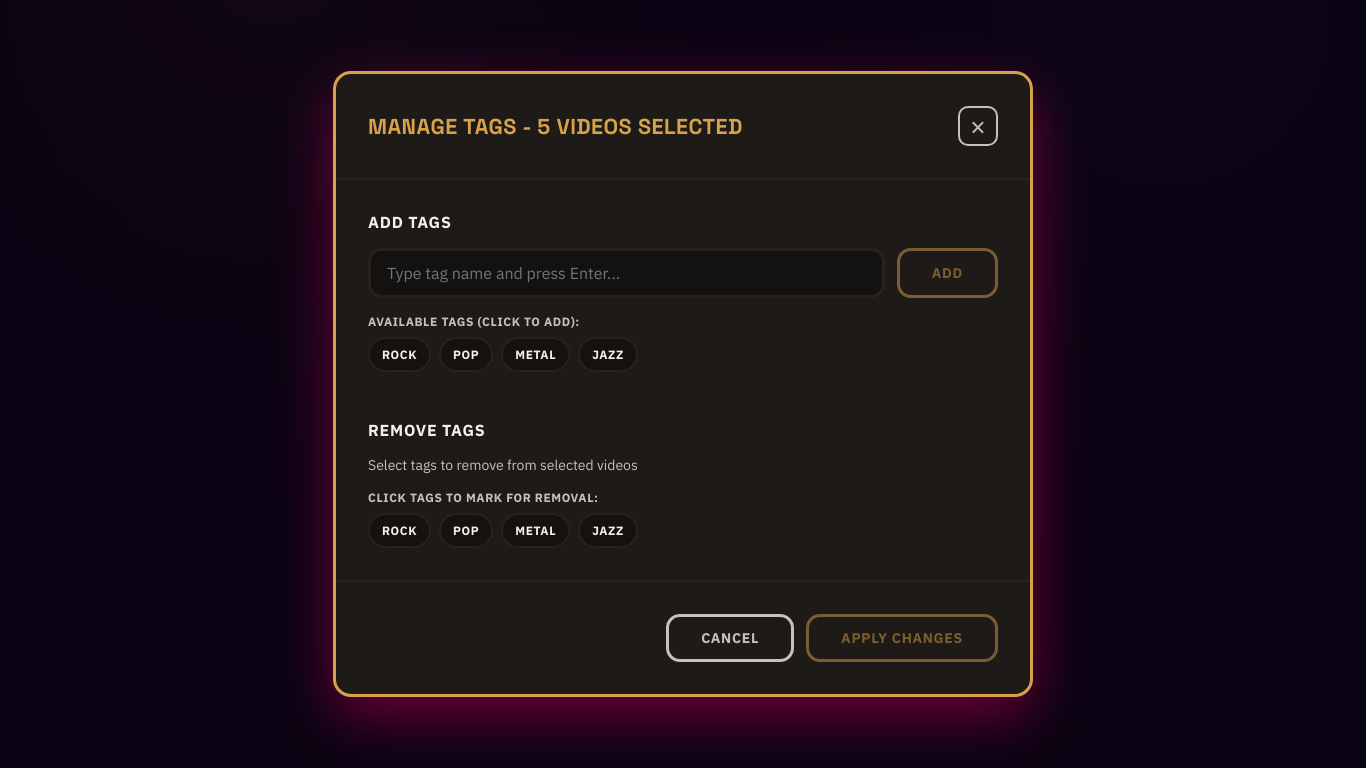
BulkTagModal › adding tags › toggles available tag selection
The image size is (1366, 768).
// Click available tag 'Rock' to add it
Click the button "Rock" below "Available tags (click to add):": (400, 354) [368, 337, 431, 372]
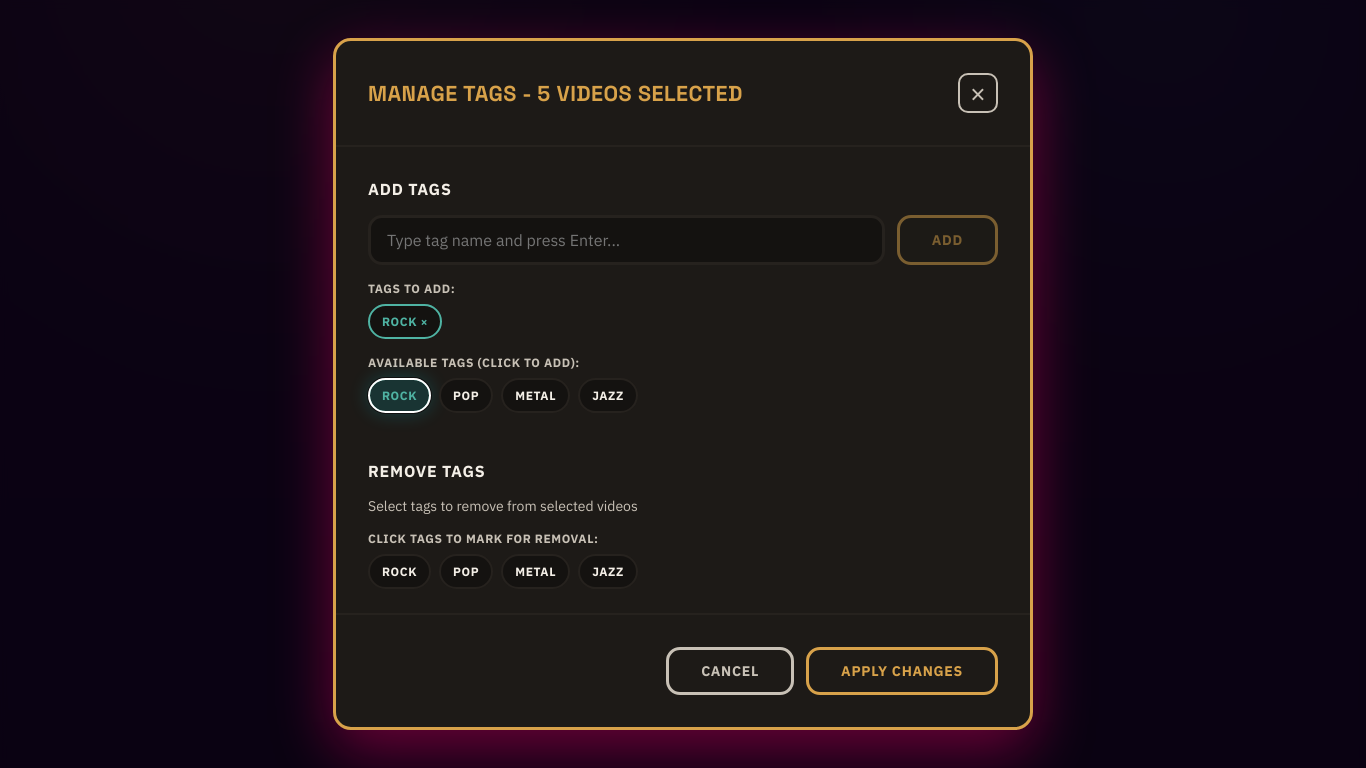
Now the text "Tags to add:" is shown, box [368, 281, 455, 296]
Now the button "Rock ×" is shown, box [368, 304, 442, 339]
